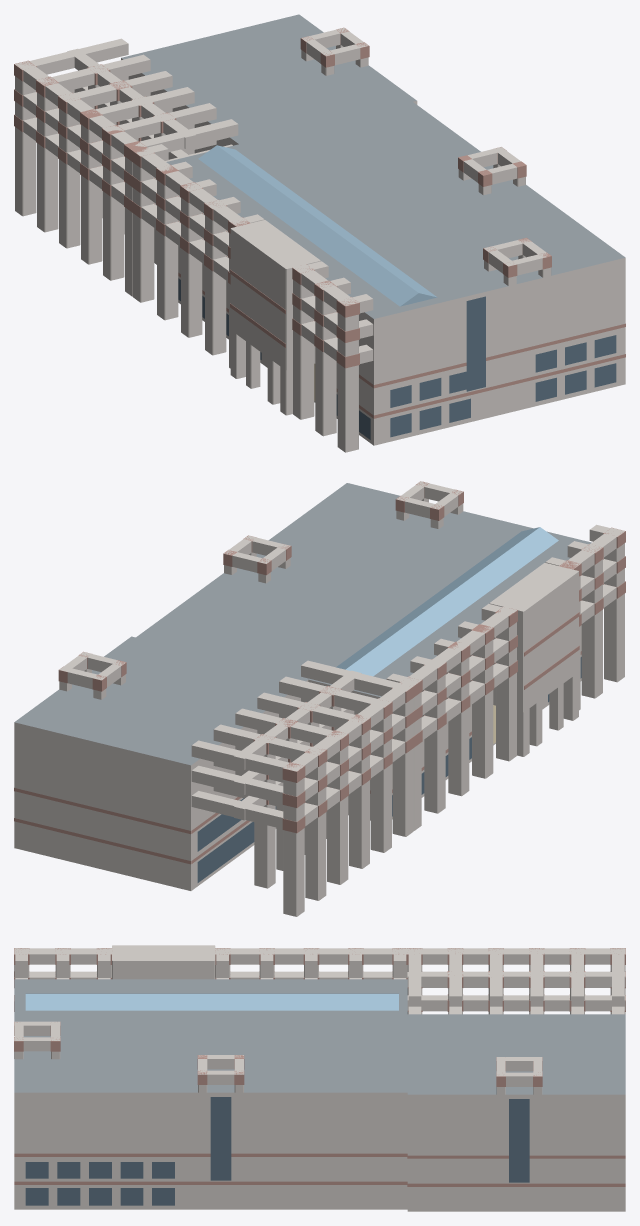
Rendered from ral-nc-museum-of-history.glb.
3 renders of one model, top to bottom at view 1: azimuth 30°, elevation 25°; view 2: azimuth 150°, elevation 25°; view 3: azimuth 270°, elevation 25°, orthographic. The views are drawn at different scales.
Visible parts, largest first — view 1: North Carolina Museum of History; view 2: North Carolina Museum of History; view 3: North Carolina Museum of History.
Boxes of the visible parts, box(x1,y1,x2,y2) form: North Carolina Museum of History: box(14, 14, 625, 452); North Carolina Museum of History: box(14, 481, 625, 916); North Carolina Museum of History: box(14, 945, 625, 1211).
Bounding box in the file's own units: 54.21 × 26 × 107.
